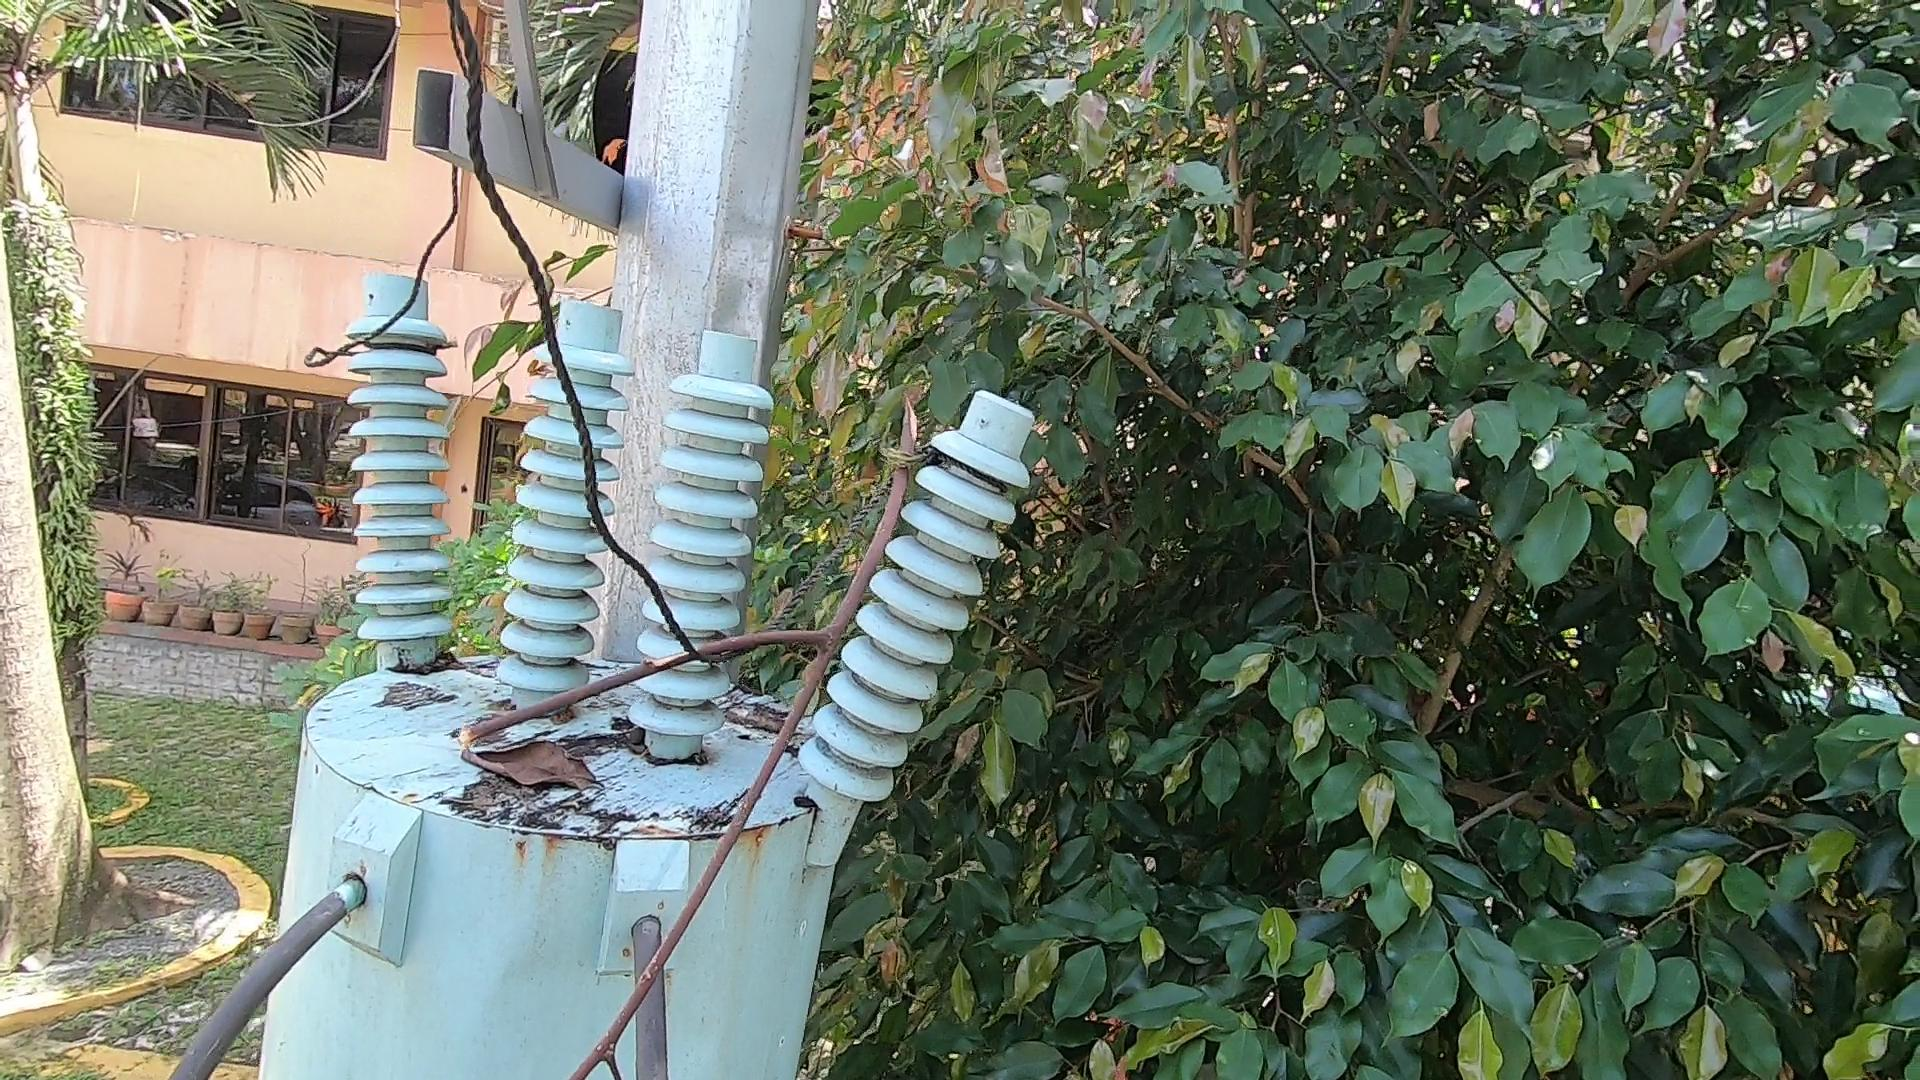leaf: (451, 741, 613, 810)
tree branch: (411, 353, 985, 1077)
